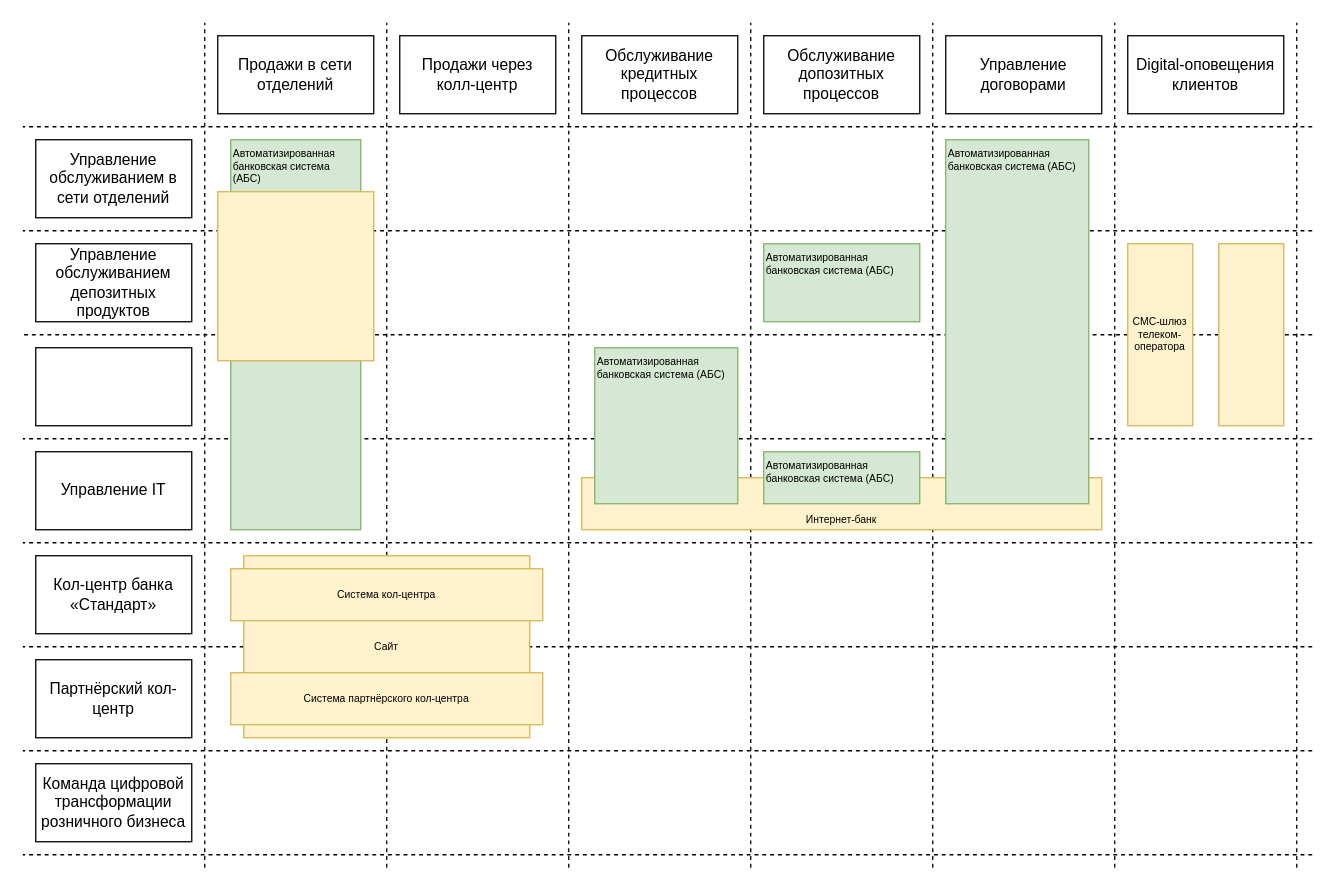
Some shapes in this 1336 by 892 pixel diagram are drawn without their labels. The shapes that lost their labels are listed below. From the top down, each one's centre as x and y in pixels, then its label:
At pixel 295 275: "Excel-файл расчета ставки по депозиту".
At pixel 1250 334: "Телеком-оператор".
At pixel 113 386: "Управление обслуживанием кредитных продуктов".
